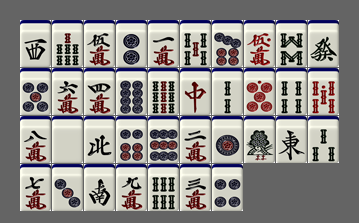0m: (244, 20, 275, 67)
0p: (244, 68, 275, 115)
0s: (308, 68, 339, 115)
1m: (148, 20, 179, 67)
1p: (212, 116, 243, 163)
1s: (244, 116, 275, 163)
1z: (276, 116, 307, 163)
2m: (180, 116, 211, 163)
2p: (116, 20, 147, 67)
2s: (212, 68, 243, 115)
2z: (84, 164, 115, 211)
3m: (180, 164, 211, 211)
3p: (52, 164, 83, 211)
3s: (308, 116, 339, 163)
3z: (20, 20, 51, 67)
4m: (84, 68, 115, 115)
4p: (212, 164, 243, 211)
4s: (276, 68, 307, 115)
4z: (84, 116, 115, 163)
5m: (84, 20, 115, 67)
5p: (20, 68, 51, 115)
5s: (180, 20, 211, 67)
5z: (52, 116, 83, 163)
6m: (52, 68, 83, 115)
6p: (116, 116, 147, 163)
6s: (148, 164, 179, 211)
6z: (308, 20, 339, 67)
7m: (20, 164, 51, 211)
7p: (212, 20, 243, 67)
7s: (52, 20, 83, 67)
7z: (180, 68, 211, 115)
8m: (20, 116, 51, 163)
8p: (116, 68, 147, 115)
8s: (276, 20, 307, 67)
9m: (116, 164, 147, 211)
9p: (148, 116, 179, 163)
9s: (148, 68, 179, 115)
